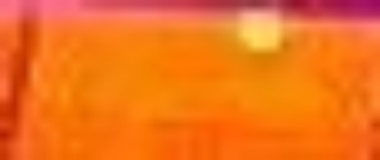Hotspot: (236, 8, 291, 51)
